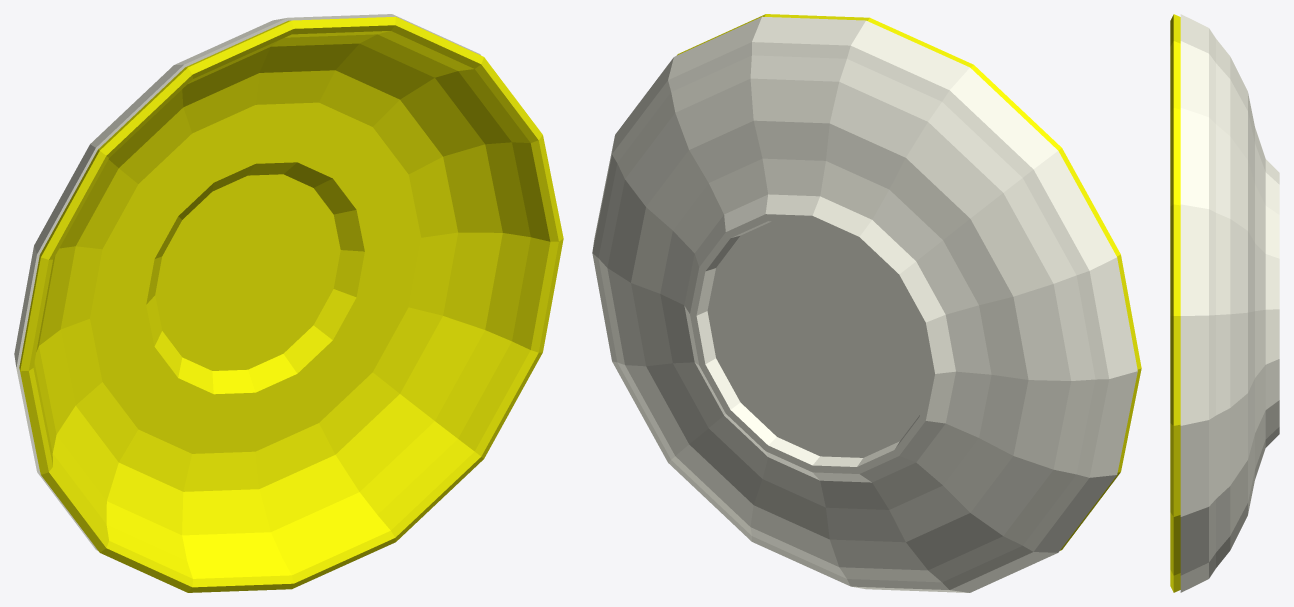
Rendered from nil_link_mesh.dae.
3 views of the same model, side by side, from view 1: azimuth 30°, elevation 25°; view 2: azimuth 150°, elevation 25°; view 3: azimuth 270°, elevation 25° (orthographic). The views are drawn at different scales.
Visible parts, largest first — view 1: nil_link (×2); view 2: nil_link (×2); view 3: nil_link (×2).
Part boxes in pixels (x1=…): nil_link (×2): x1=14, y1=14, x2=563, y2=592; nil_link (×2): x1=592, y1=14, x2=1141, y2=592; nil_link (×2): x1=1170, y1=14, x2=1279, y2=592.
Bounding box in the file's own units: 0.164 × 0.164 × 0.031.
